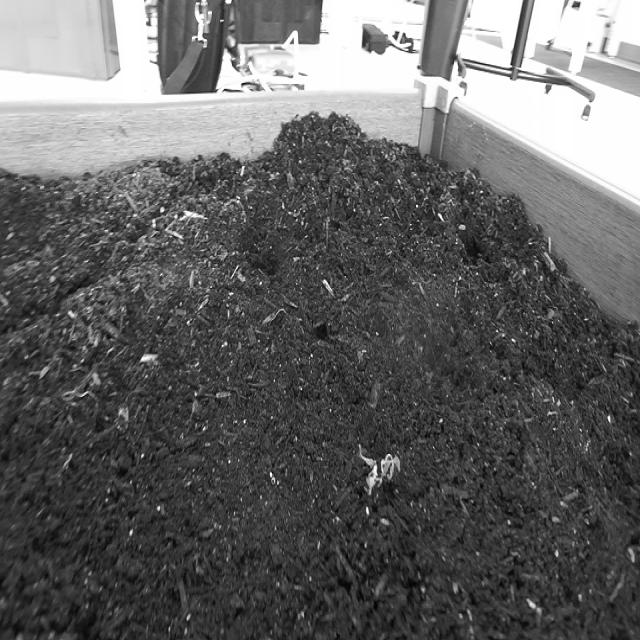Unhealthy: (358, 441, 382, 497), (380, 443, 405, 487)
